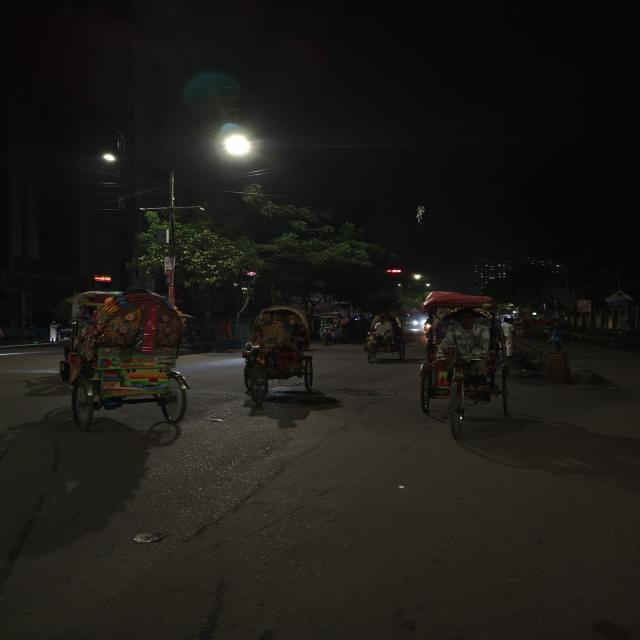pedestrian: (543, 321, 571, 353)
rickshaw: (56, 282, 198, 433), (414, 287, 518, 441), (228, 304, 324, 408), (360, 311, 410, 364), (312, 311, 351, 345)
